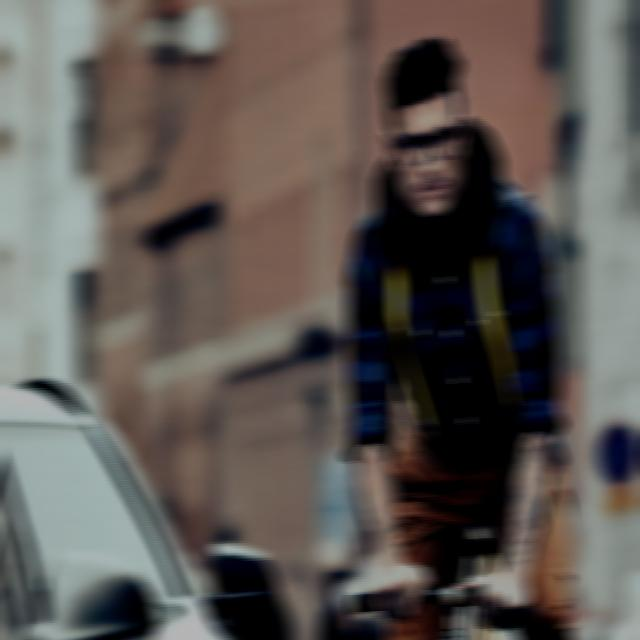Without Helmet: (375, 34, 478, 223)
